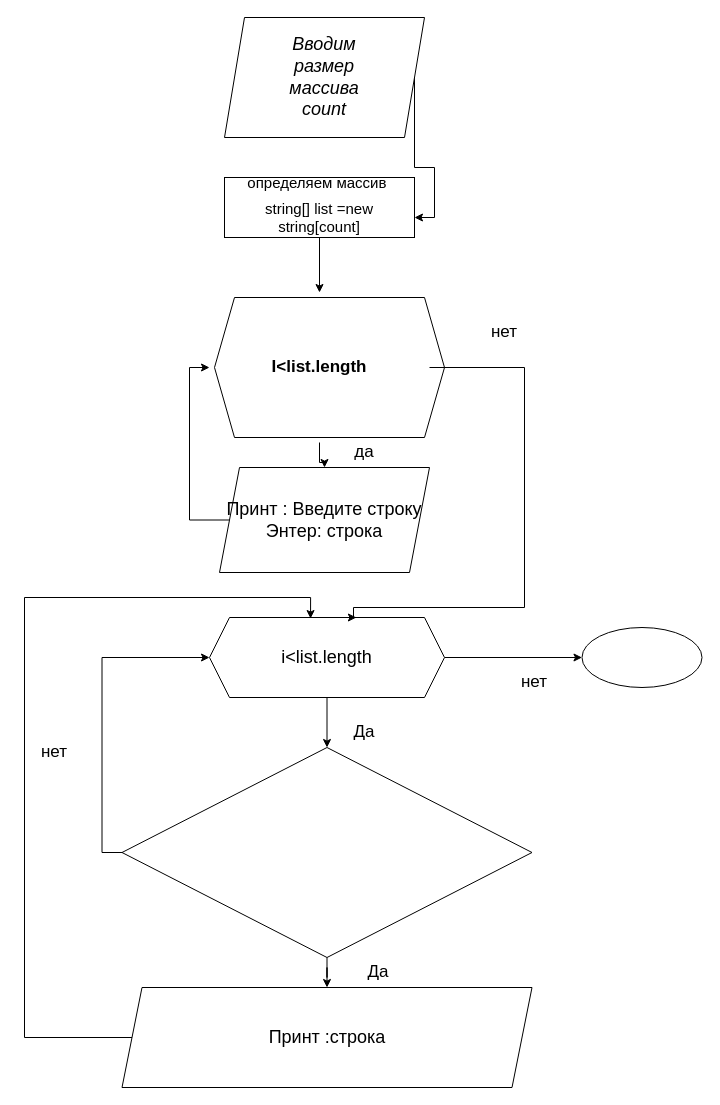
Some shapes in this 720 by 1105 pixel diagram are drawn without their labels. The shapes that lost their labels are listed below. From the top down, each one's centre as x and y in pixels, then its label:
point 641,657: end
point 326,852: list[i].length<=3&&!=0
